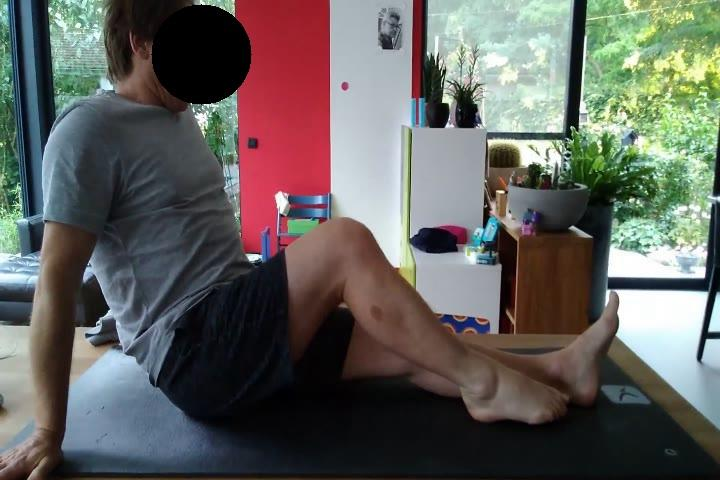lower_body: (153, 215, 623, 429)
